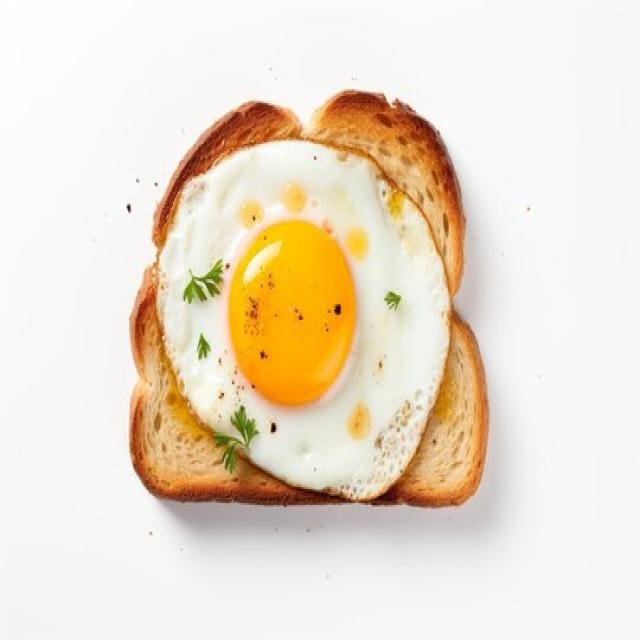Egg: (158, 141, 449, 498)
